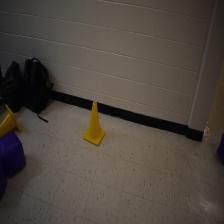cone: (83, 101, 105, 146), (0, 104, 22, 137)
cube: (0, 129, 26, 177), (1, 156, 6, 195)
